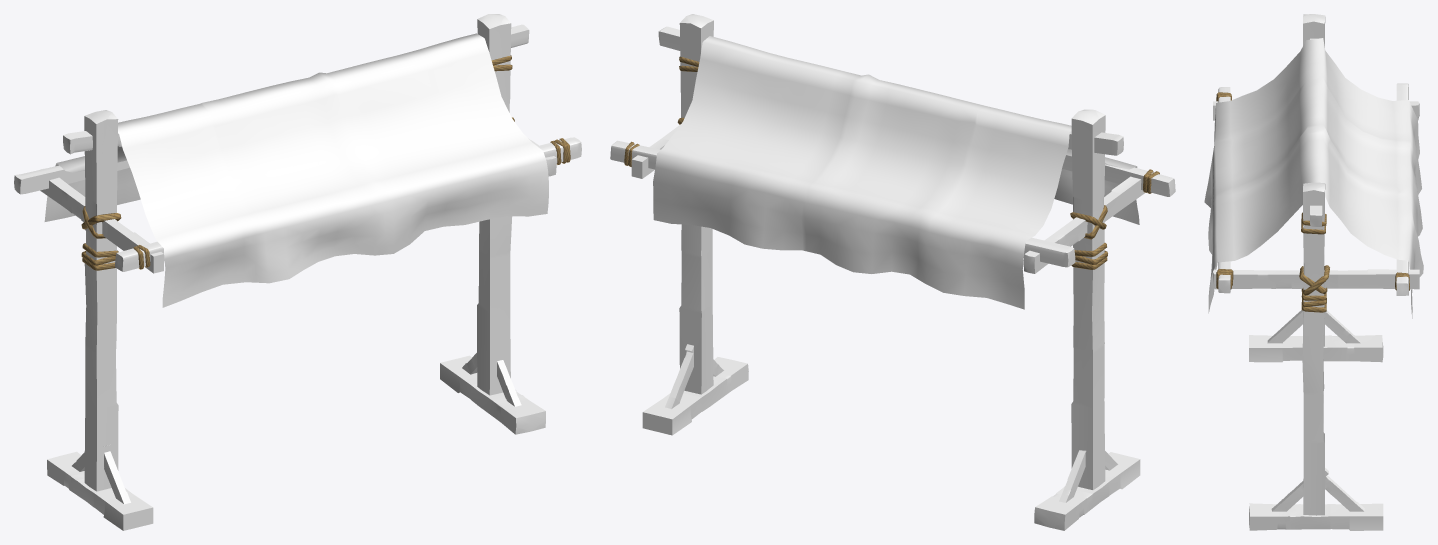
Rendered from SM_Stall_02.fbx.
3 views of the same model, side by side, from view 1: azimuth 30°, elevation 25°; view 2: azimuth 150°, elevation 25°; view 3: azimuth 270°, elevation 25° (orthographic). The views are drawn at different scales.
Parts seen in each view (by area): view 1: SM_Stall_02_LOD0; view 2: SM_Stall_02_LOD0; view 3: SM_Stall_02_LOD0.
Part boxes in pixels (box(x1,y1,x2,y2)): SM_Stall_02_LOD0: box(14, 14, 581, 530); SM_Stall_02_LOD0: box(610, 14, 1175, 530); SM_Stall_02_LOD0: box(1204, 14, 1423, 530).
Size of what is drawn, in the model's own units: 4.22 by 3.38 by 1.98.
